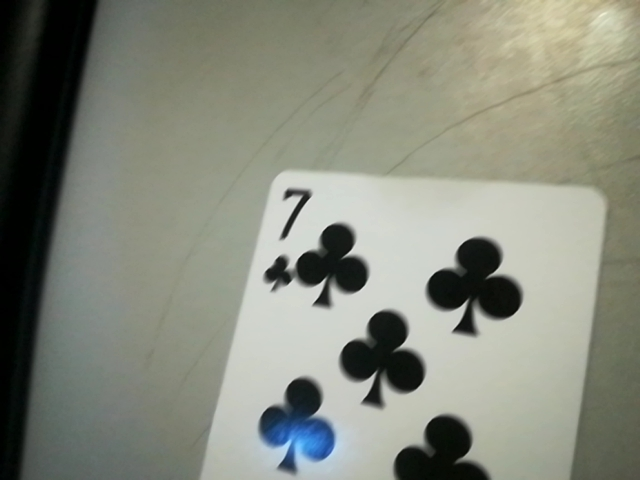mh 7: (255, 180, 312, 297)
